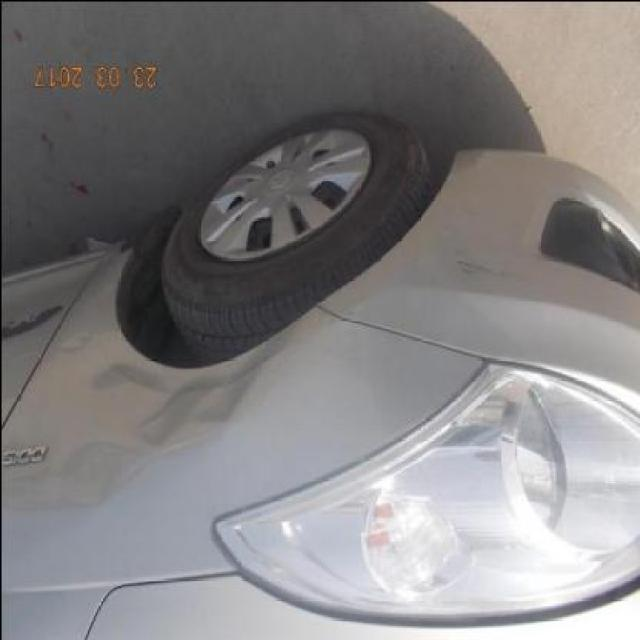damage: (91, 351, 276, 490), (449, 247, 516, 284)
